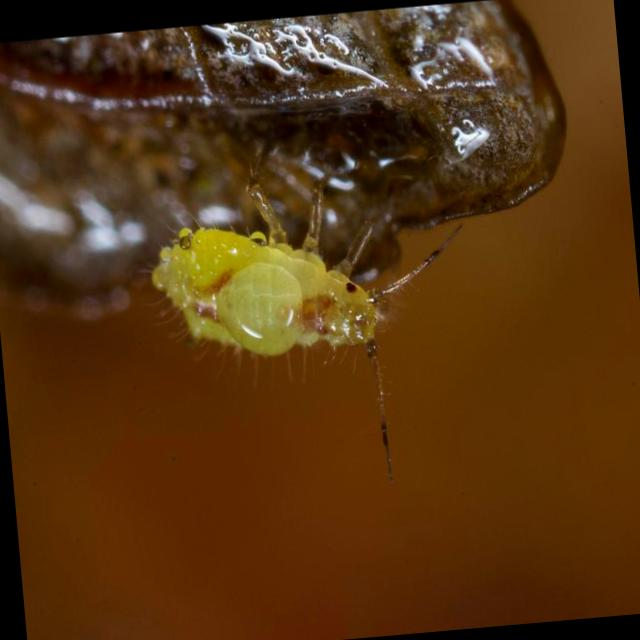Aphids: (116, 157, 458, 450)
